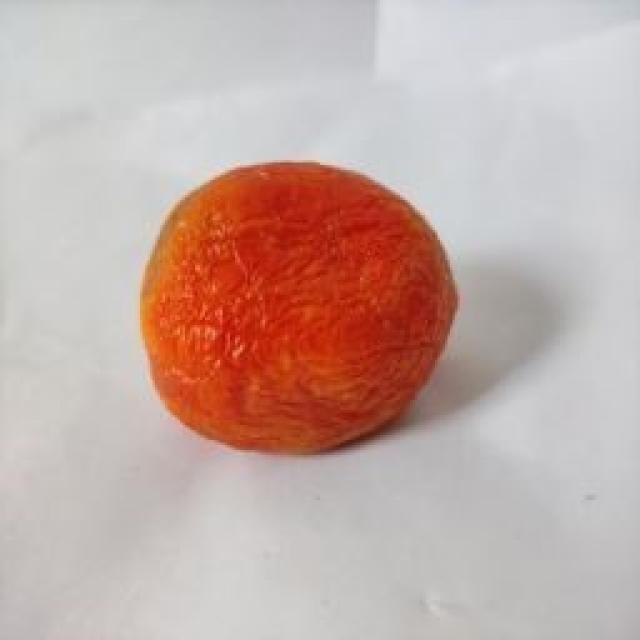overripe: (134, 159, 459, 459)
